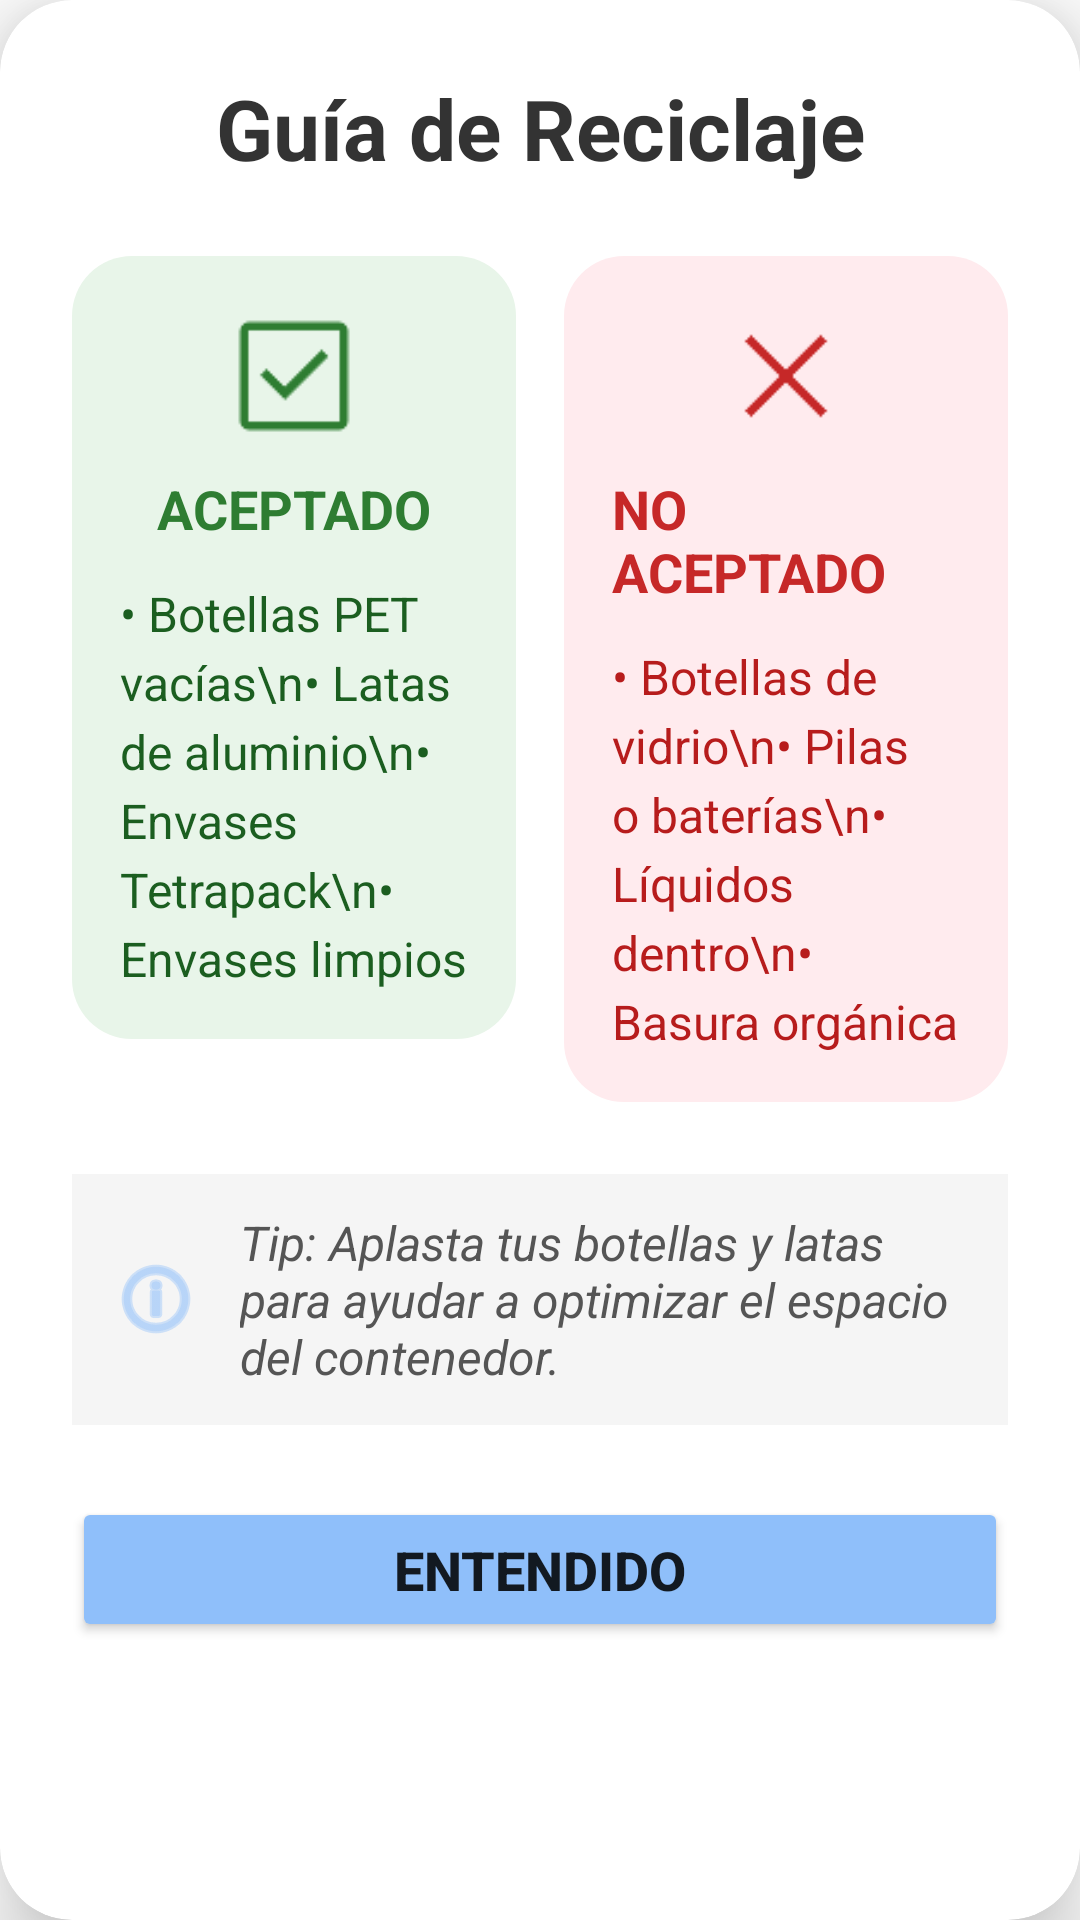

Icon bounding boxes for this 1080*1920 phone screenshot, format (x1, y1, x2, y2):
check guide: (238, 320, 350, 432)
close: (744, 334, 828, 418)
info details: (122, 1265, 190, 1333)
